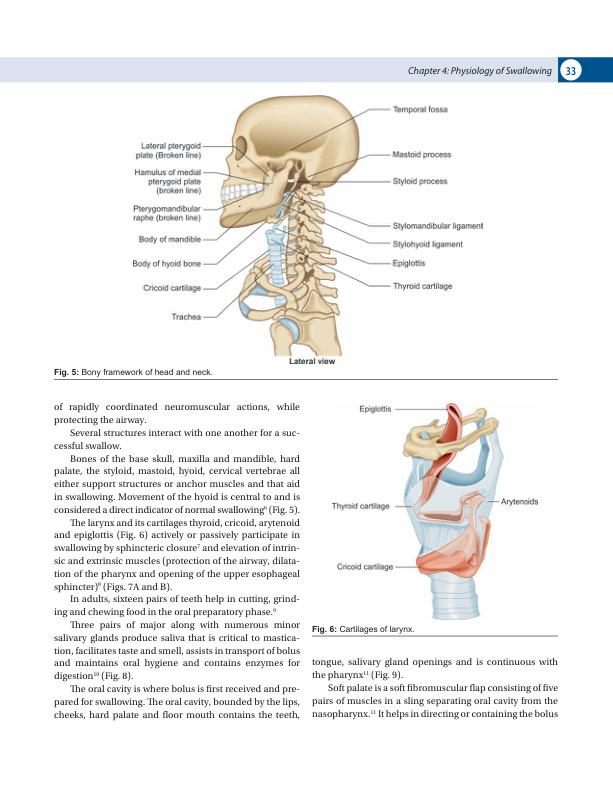caption: (53, 368, 213, 378), (311, 624, 416, 635)
header: (407, 66, 552, 77)
image: (64, 89, 549, 366), (310, 391, 563, 622)
text: (52, 401, 301, 722), (311, 657, 559, 721)
